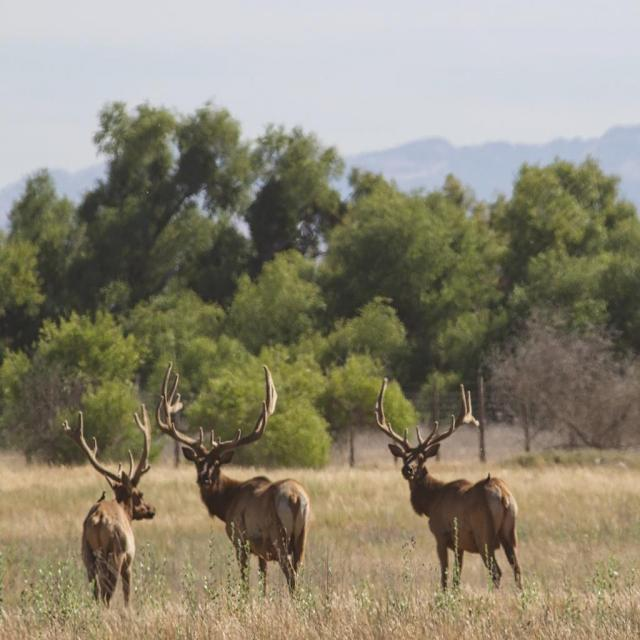Deer: (158, 358, 310, 601), (372, 378, 524, 599), (65, 402, 164, 608)
